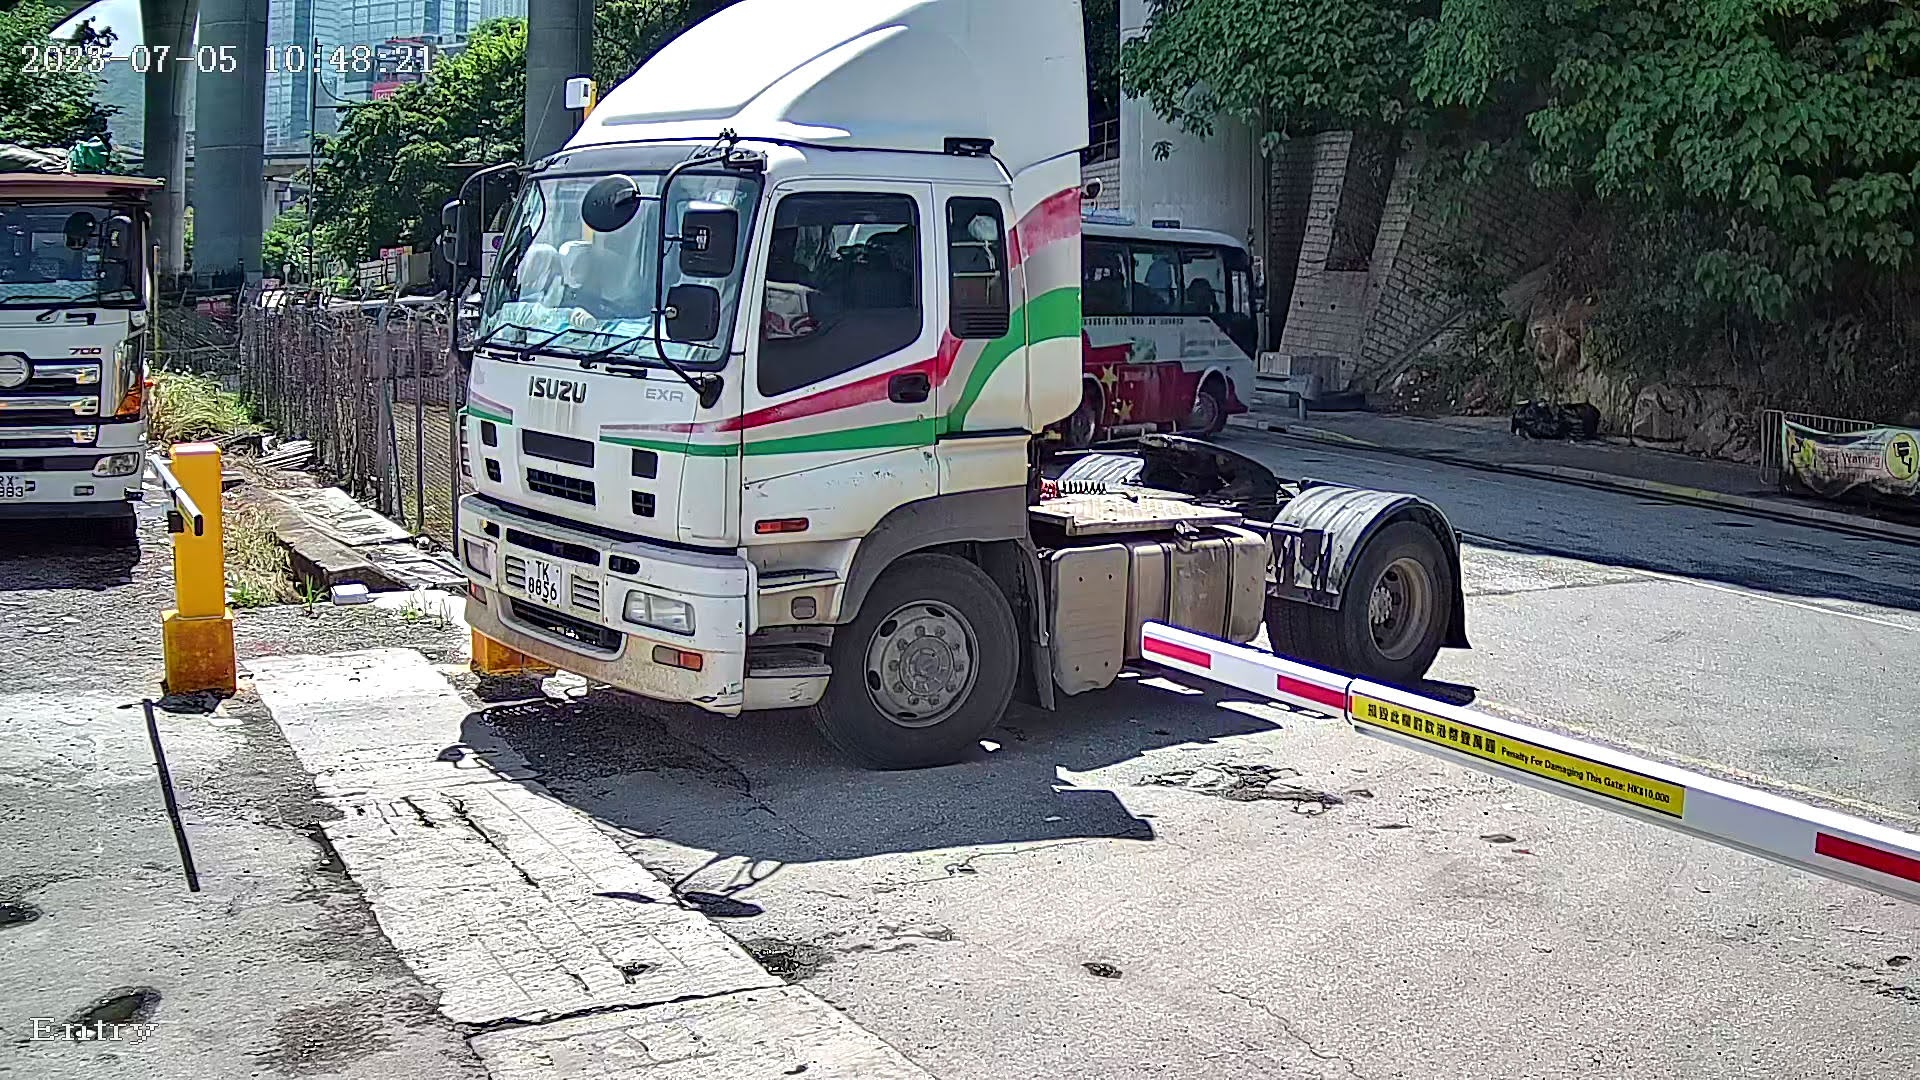truck: (430, 1, 1549, 823)
